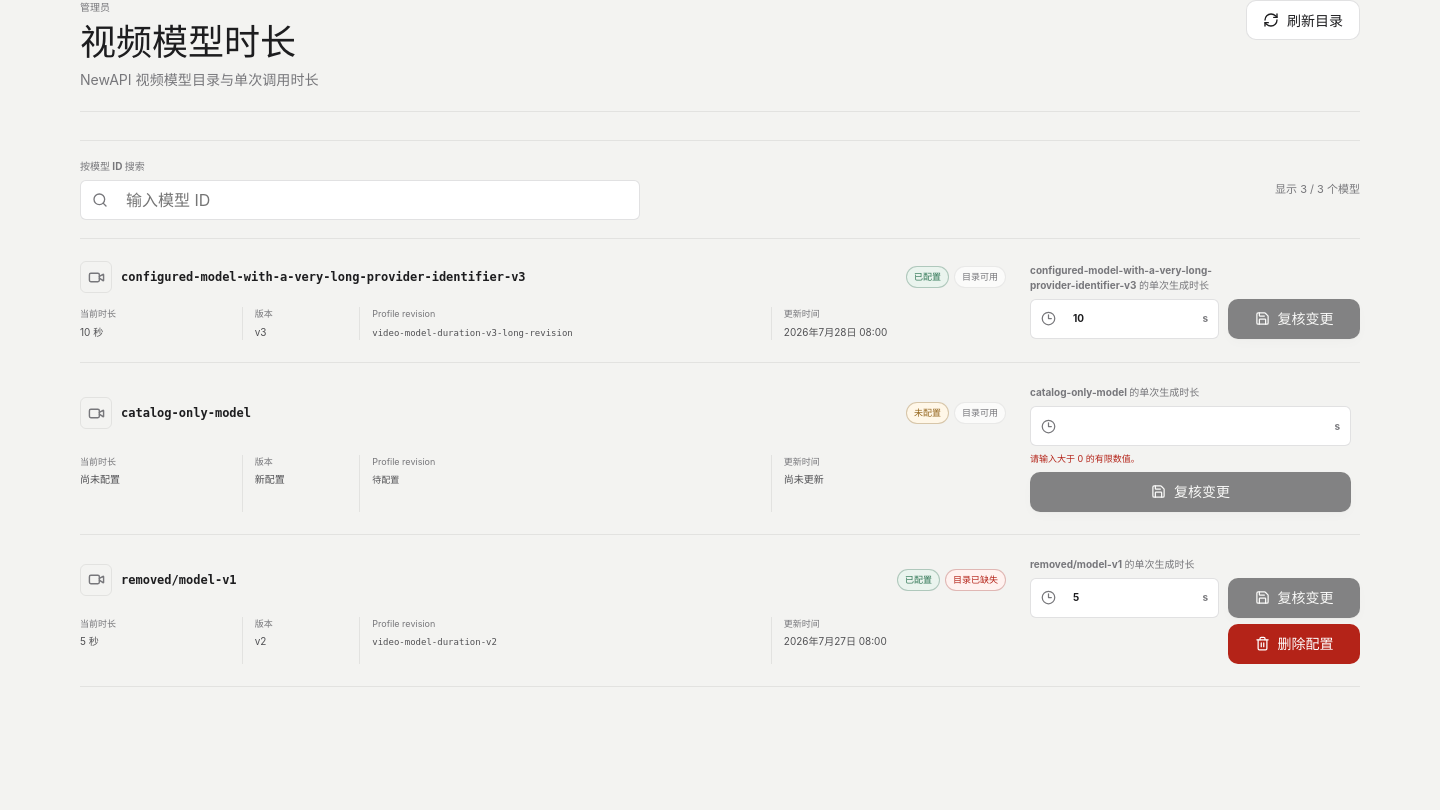
Test case: VideoModelAdminPage › requires confirmation and a reason before saving, then shows the new version
Replace the text in the number field named "configured-model-with-a-very-long-provider-identifier-v3 的单次" with "12" at (1129, 319), box [1063,300,1195,338]
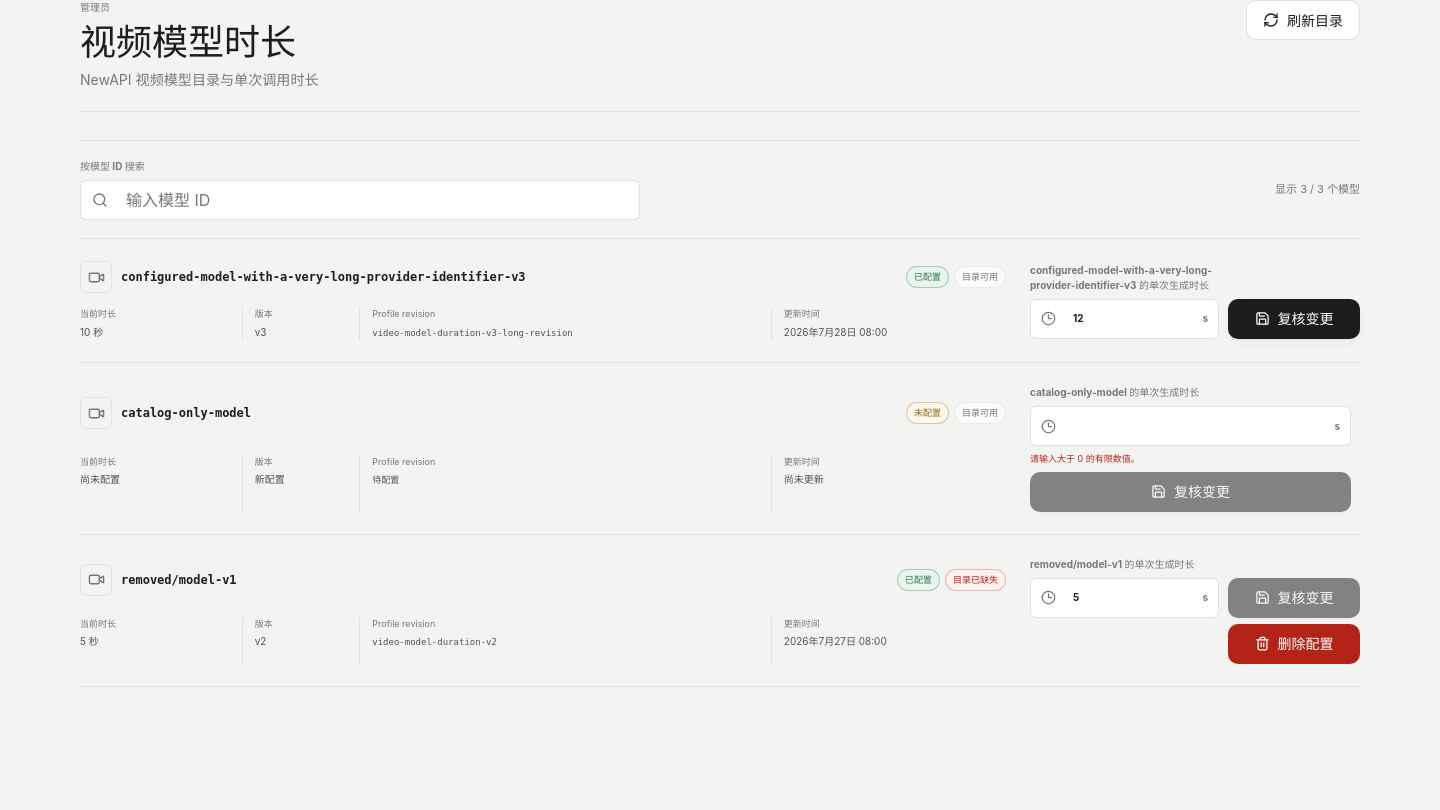
Click the button "复核变更" in the row of "10 秒" at (1294, 319), box [1228,299,1360,339]
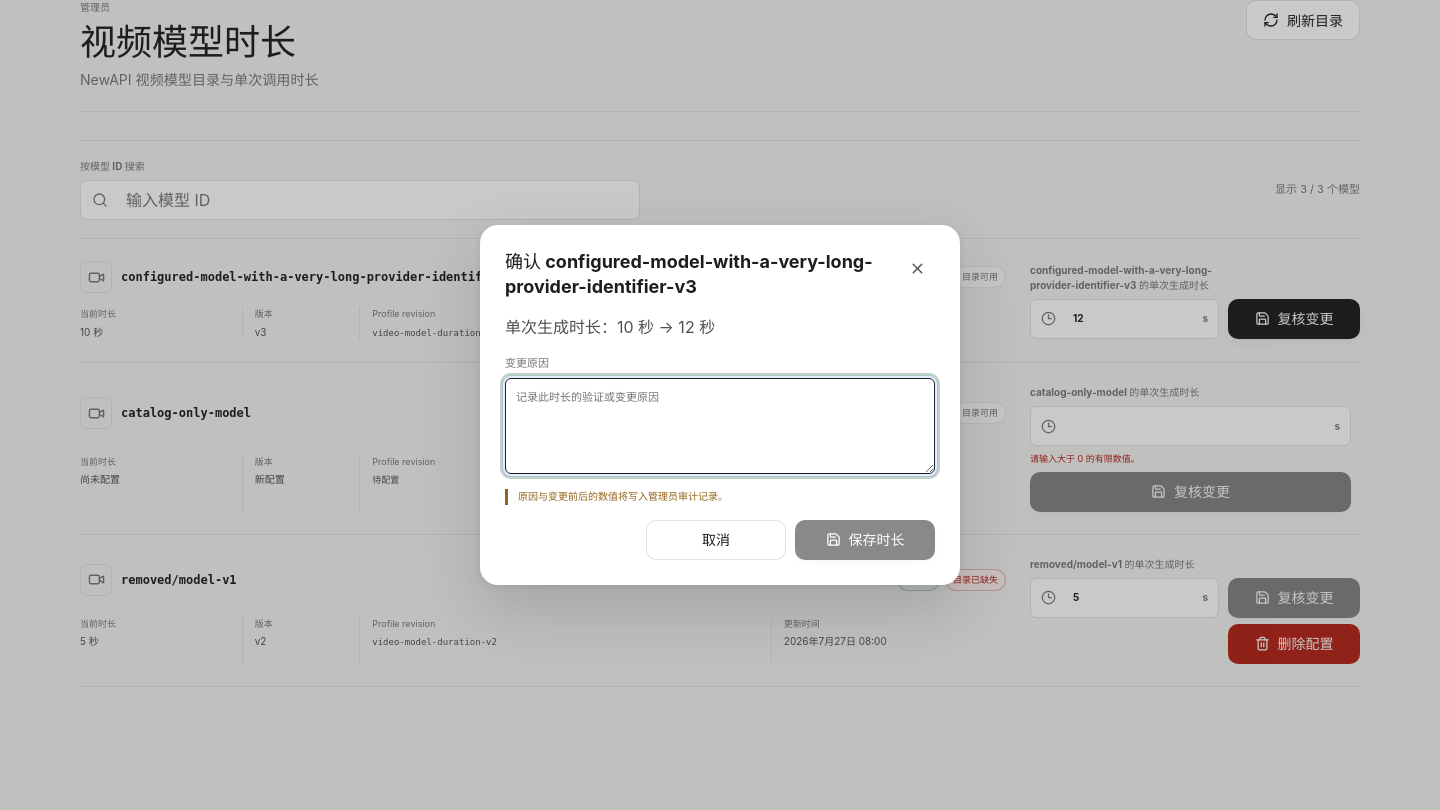
Type "供应商文档与实测结果一致" into the text box labelled "变更原因" at (720, 426), box [505,378,935,474]
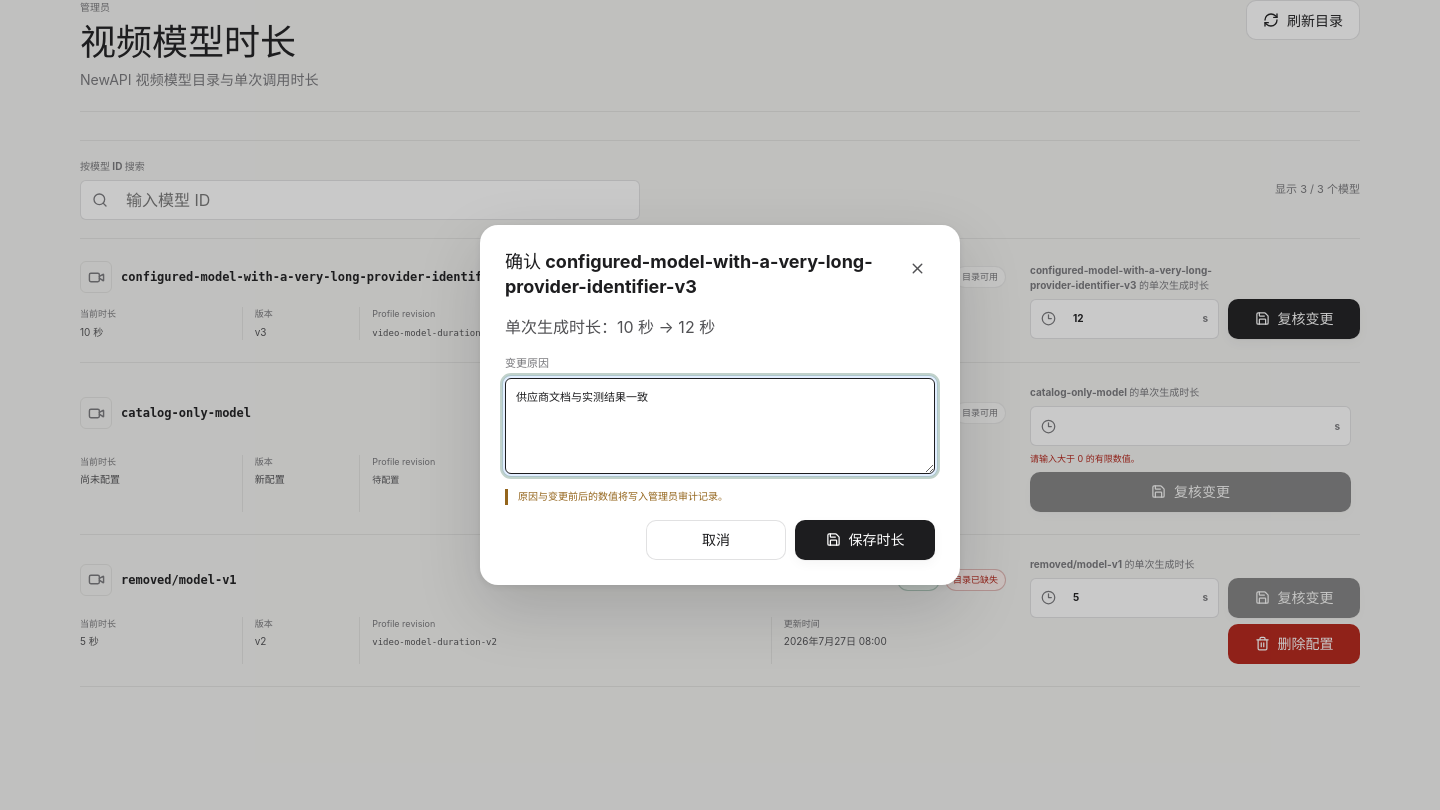
Click the button "保存时长" at (865, 540), box [795,520,935,560]
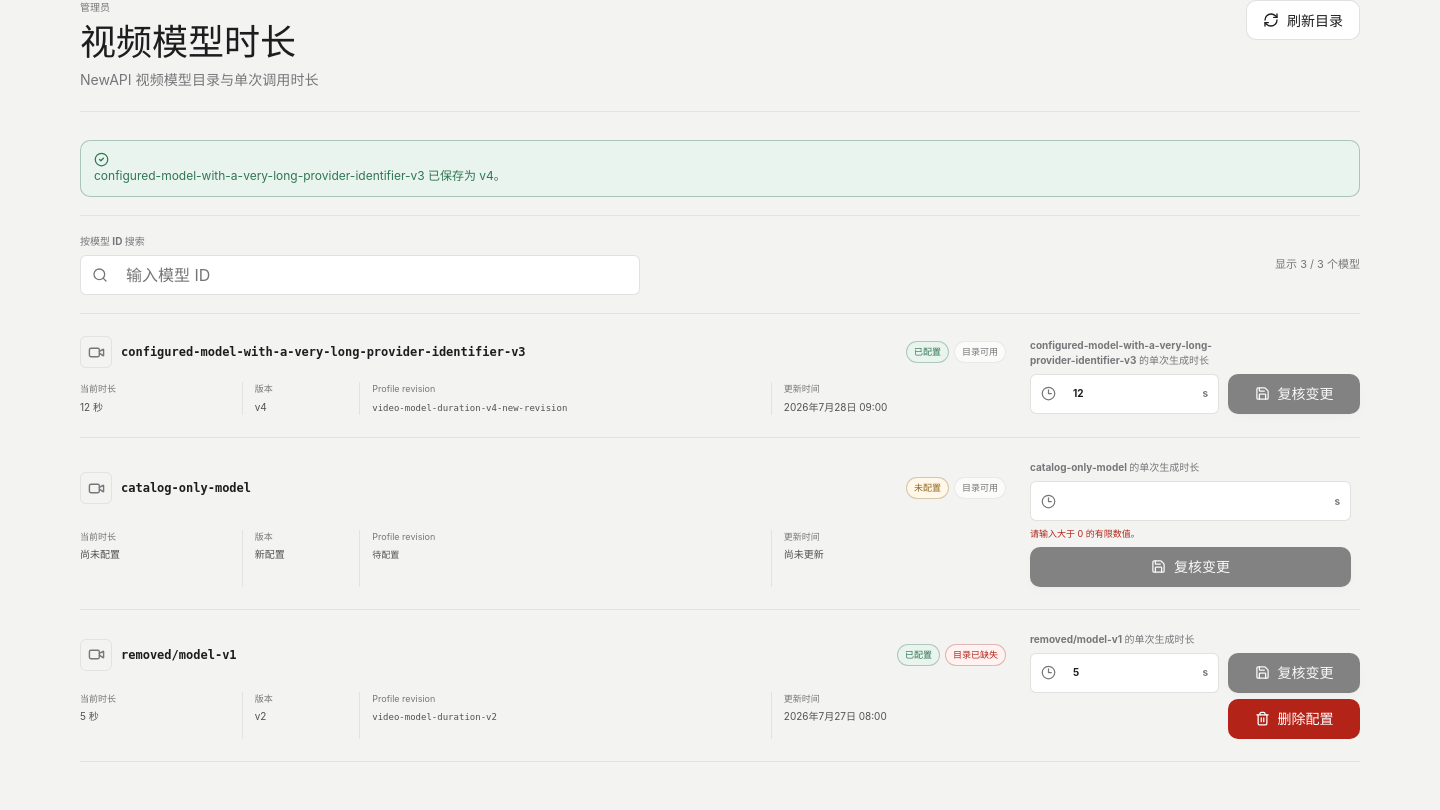
Now the text "v4" is shown, box [255,401,267,413]
Now the text "video-model-duration-v4-new-revision" is shown, box [372,403,567,413]
